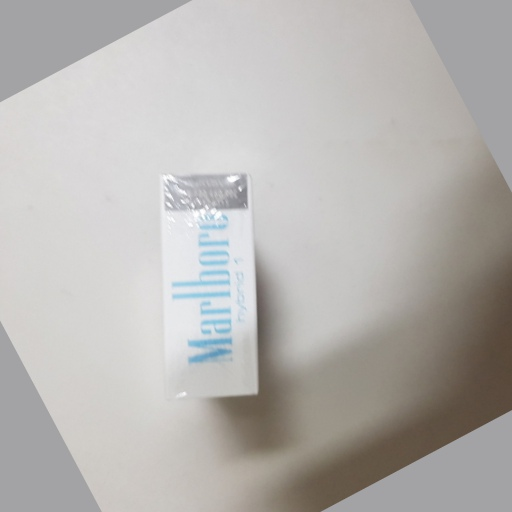Paper_0: (147, 160, 283, 421)
